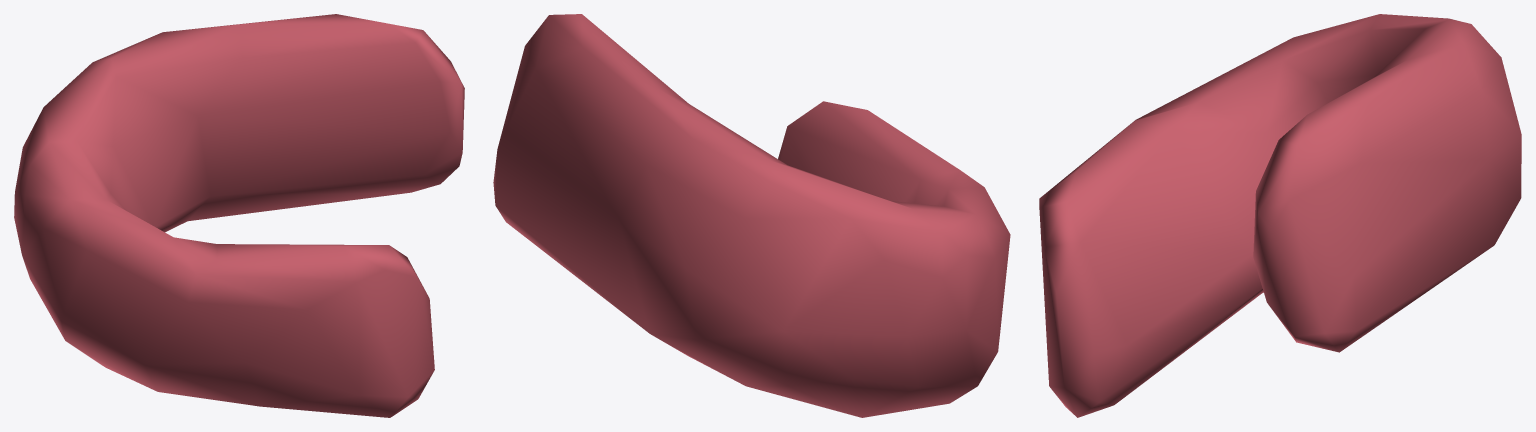
3 renders of one model, left to right at view 1: azimuth 30°, elevation 25°; view 2: azimuth 150°, elevation 25°; view 3: azimuth 270°, elevation 25°, orthographic. The views are drawn at different scales.
Visible parts, largest first — view 1: 右侧上斜肌滑车; view 2: 右侧上斜肌滑车; view 3: 右侧上斜肌滑车.
Boxes of the visible parts, bbox=[...] form: 右侧上斜肌滑车: bbox=[14, 14, 464, 417]; 右侧上斜肌滑车: bbox=[493, 14, 1010, 417]; 右侧上斜肌滑车: bbox=[1039, 14, 1521, 417].
Size of the model in its own units: 0.00622 by 0.00433 by 0.00532.
